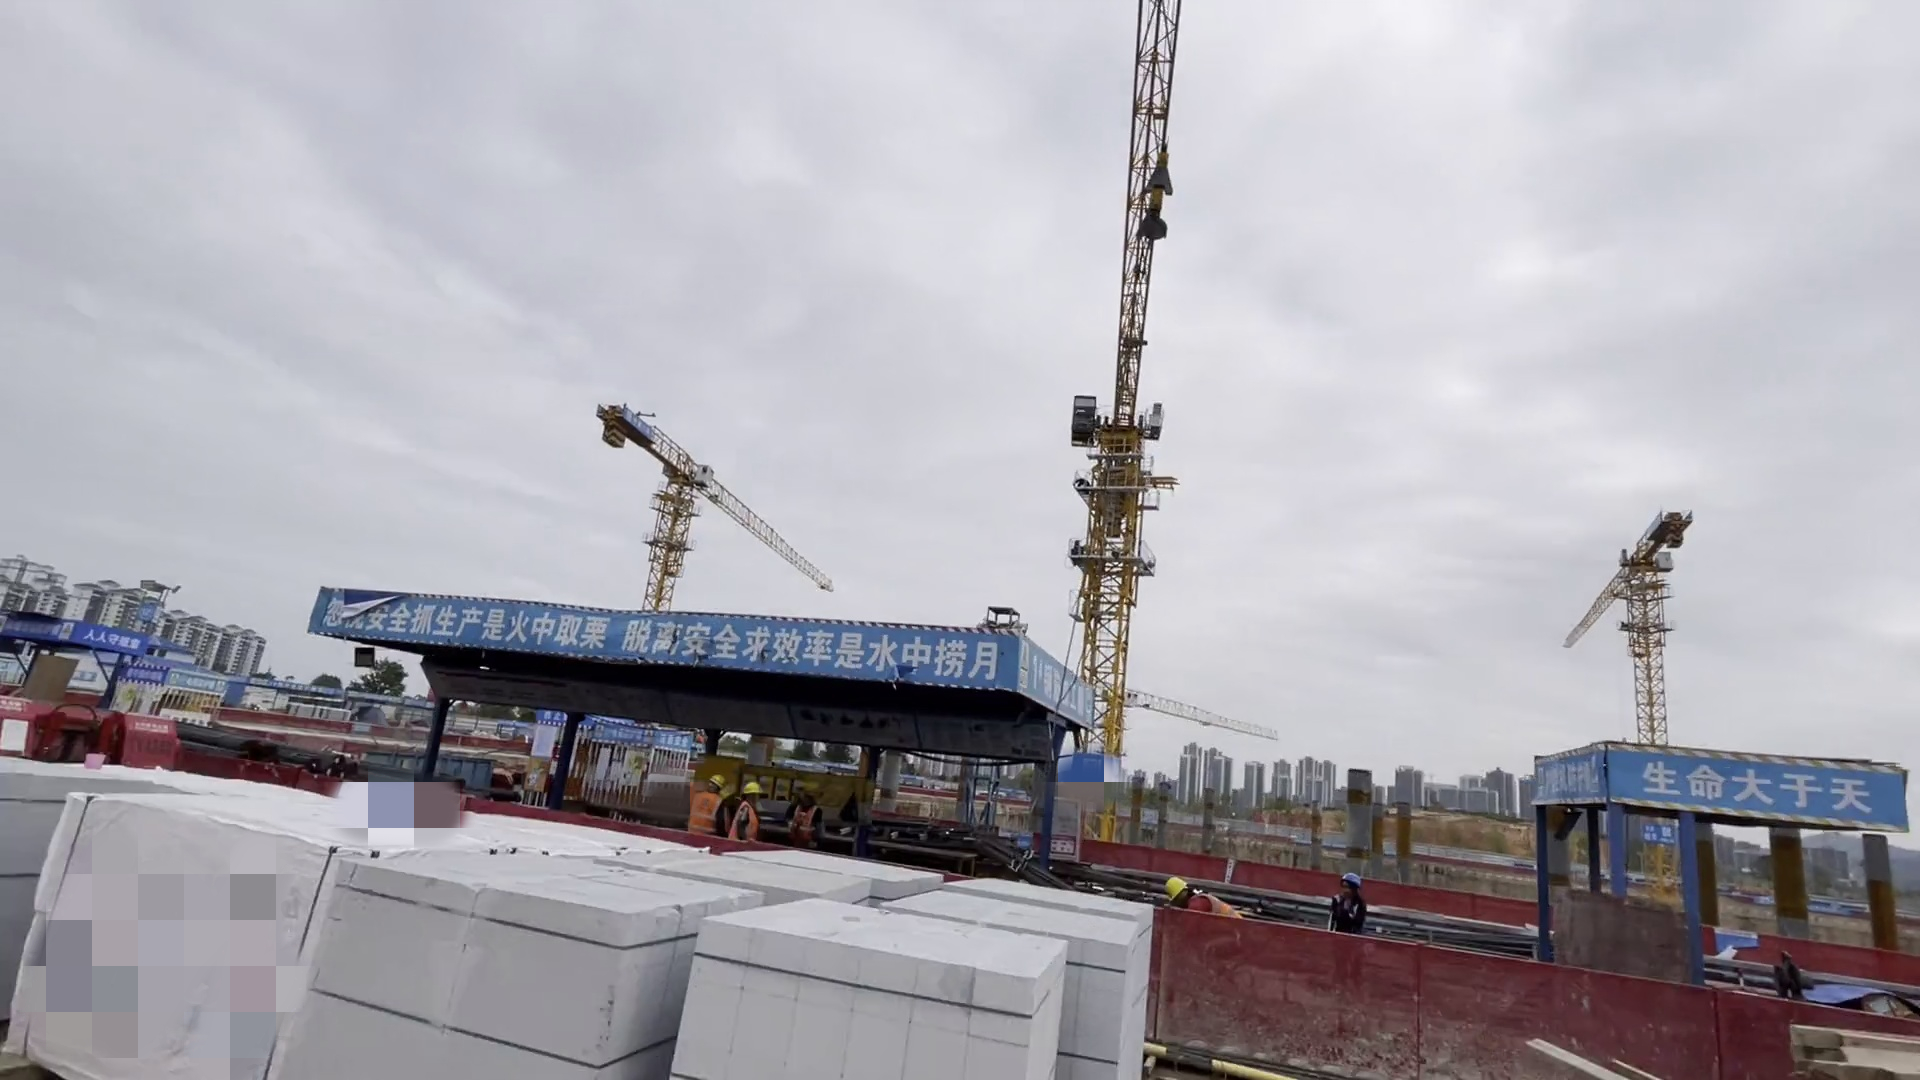helmet: (702, 775, 729, 795), (1160, 878, 1184, 900), (742, 778, 764, 798), (1339, 868, 1360, 887)
person: (1156, 873, 1258, 947), (777, 781, 831, 856), (1319, 872, 1368, 951), (679, 770, 727, 845), (725, 777, 765, 852)
vest: (1194, 892, 1240, 930), (683, 793, 724, 835), (721, 802, 759, 841), (1322, 895, 1360, 936), (785, 806, 819, 849)
